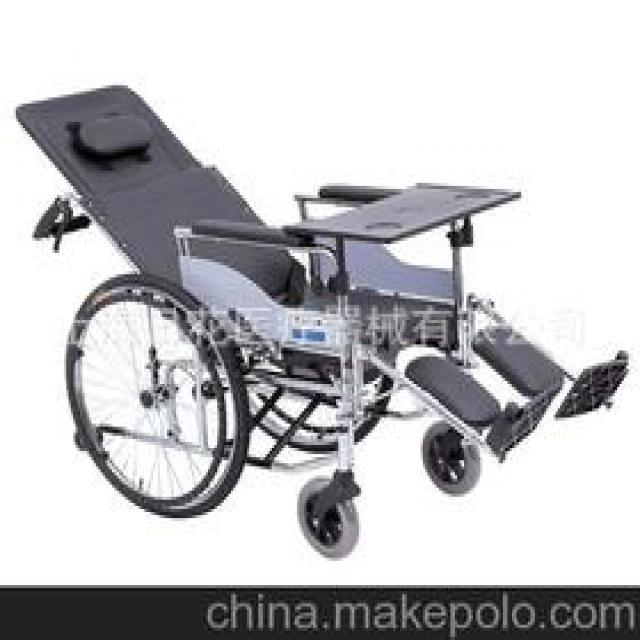wheelchair: (9, 76, 638, 555)
